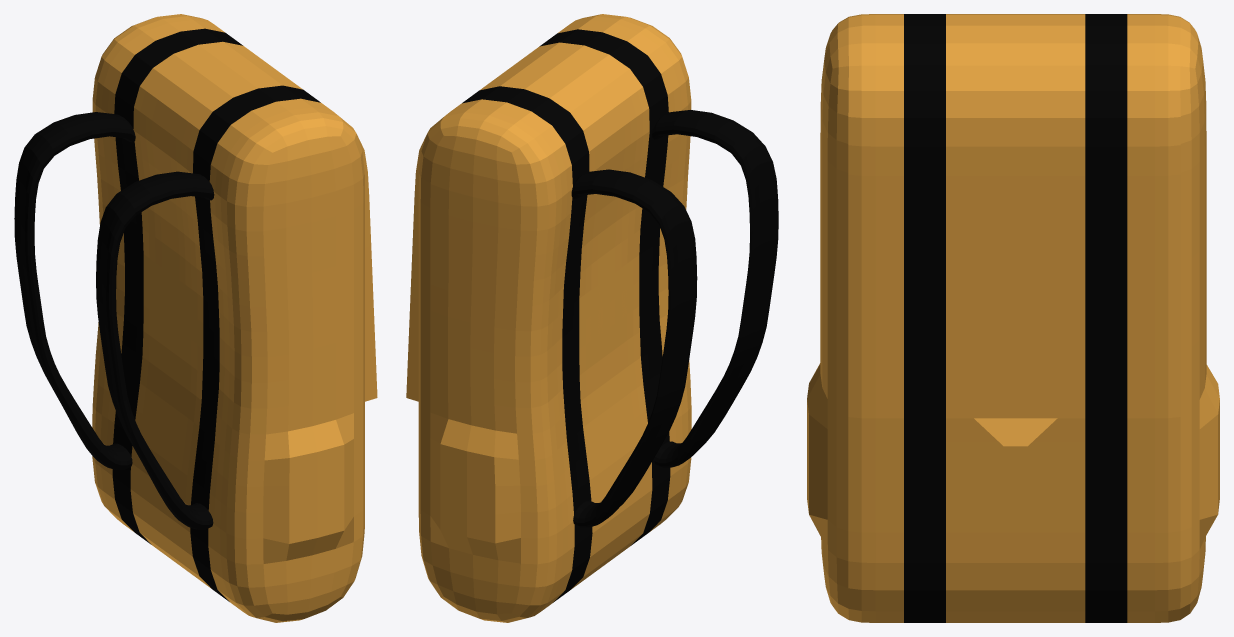
The model's file is parachuteclose.fbx.
3 renders of one model, left to right at view 1: azimuth 30°, elevation 25°; view 2: azimuth 150°, elevation 25°; view 3: azimuth 270°, elevation 25°, orthographic. The views are drawn at different scales.
Parts seen in each view (by area): view 1: Paracaidas_plegado; view 2: Paracaidas_plegado; view 3: Paracaidas_plegado.
Boxes of the visible parts, bbox=[...] form: Paracaidas_plegado: bbox=[14, 14, 377, 622]; Paracaidas_plegado: bbox=[406, 14, 778, 622]; Paracaidas_plegado: bbox=[807, 14, 1219, 622].
Size of the model in its own units: 1.81 by 3.32 by 2.11.
